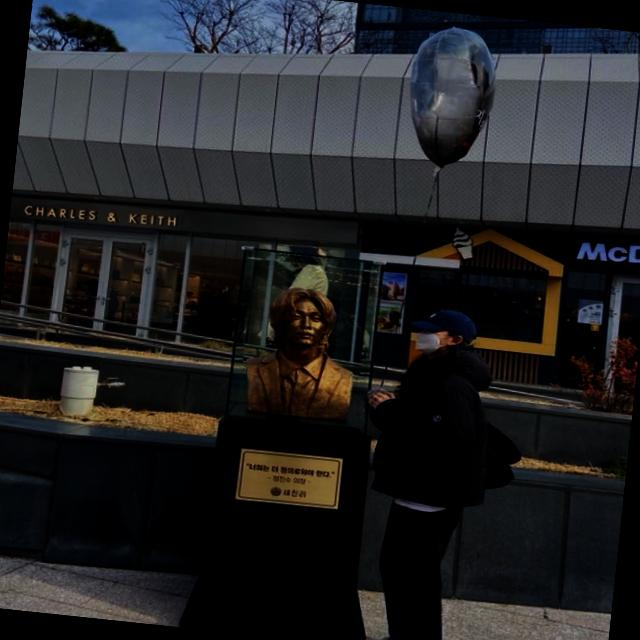padding: (362, 338, 496, 510)
trainingpants: (369, 498, 460, 640)
